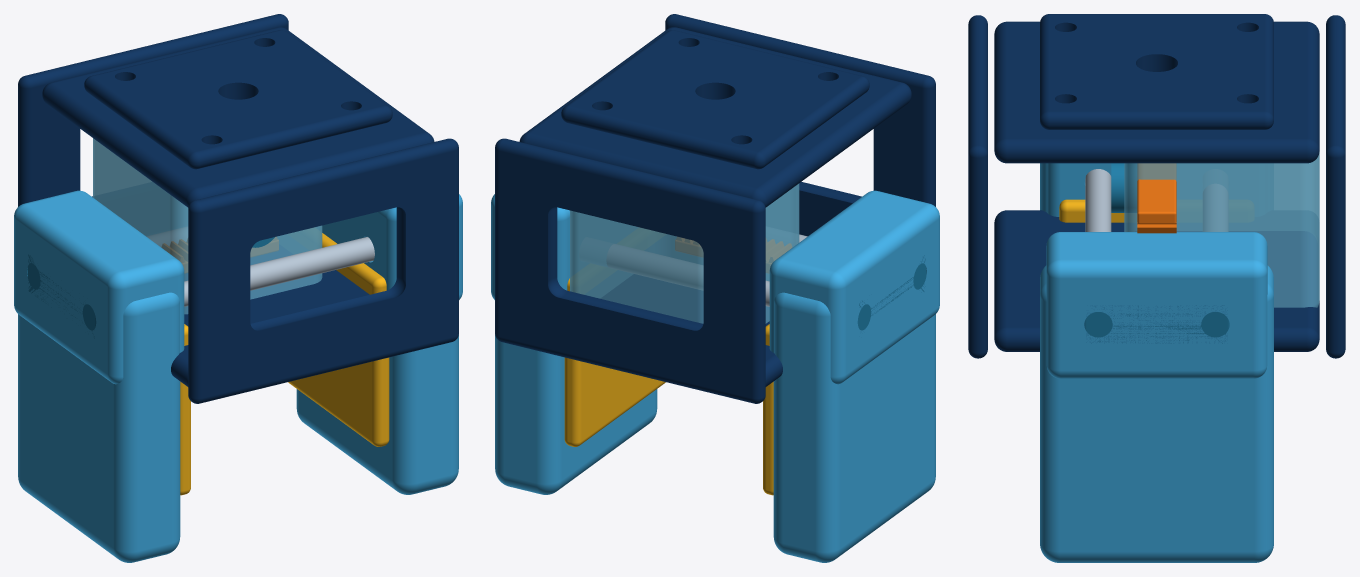
The model's file is G01_detailed_gripper_open_candidate.glb.
3 views of the same model, side by side, from view 1: azimuth 30°, elevation 25°; view 2: azimuth 150°, elevation 25°; view 3: azimuth 270°, elevation 25° (orthographic). The views are drawn at different scales.
Visible parts, largest first — view 1: L_FINGER_NEGATIVE, L_PALM_FRONT_PLATE, L_WRIST_MOUNT_PLATE, L_FINGER_POSITIVE, L_PALM_TOP_BRIDGE, L_PALM_REAR_PLATE, L_ACTUATOR_VENDOR_CANDIDATE, L_PAD_POSITIVE, L_PALM_BOTTOM_BRIDGE, L_GUIDE_ROD_FRONT, L_PAD_NEGATIVE, L_STOP_NEGATIVE (+1 smaller); view 2: L_FINGER_NEGATIVE, L_PALM_REAR_PLATE, L_WRIST_MOUNT_PLATE, L_PALM_TOP_BRIDGE, L_FINGER_POSITIVE, L_ACTUATOR_VENDOR_CANDIDATE, L_PALM_FRONT_PLATE, L_PAD_POSITIVE, L_PALM_BOTTOM_BRIDGE, L_GUIDE_ROD_REAR, L_PAD_NEGATIVE, L_RACK_NEGATIVE (+1 smaller); view 3: L_FINGER_POSITIVE, L_WRIST_MOUNT_PLATE, L_PALM_TOP_BRIDGE, L_ACTUATOR_VENDOR_CANDIDATE, L_PALM_BOTTOM_BRIDGE, L_PALM_FRONT_PLATE, L_PALM_REAR_PLATE, L_RACK_POSITIVE, L_STOP_POSITIVE, L_FINGER_NEGATIVE, L_GUIDE_ROD_FRONT, L_MANUAL_RELEASE_HUB (+2 smaller).
Boxes of the visible parts, x1,y1,x2,y2 form: L_FINGER_NEGATIVE: (14, 190, 184, 562); L_PALM_FRONT_PLATE: (188, 138, 458, 403); L_WRIST_MOUNT_PLATE: (84, 30, 392, 169); L_FINGER_POSITIVE: (296, 194, 462, 494); L_PALM_TOP_BRIDGE: (42, 27, 434, 207); L_PALM_REAR_PLATE: (18, 14, 288, 206); L_ACTUATOR_VENDOR_CANDIDATE: (93, 138, 322, 314); L_PAD_POSITIVE: (288, 233, 389, 446); L_PALM_BOTTOM_BRIDGE: (171, 244, 369, 386); L_GUIDE_ROD_FRONT: (184, 237, 374, 306); L_PAD_NEGATIVE: (180, 324, 190, 495); L_STOP_NEGATIVE: (27, 254, 96, 338); L_FINGER_NEGATIVE: (769, 190, 939, 562); L_PALM_REAR_PLATE: (495, 138, 765, 403); L_WRIST_MOUNT_PLATE: (561, 30, 869, 169); L_PALM_TOP_BRIDGE: (519, 27, 911, 207); L_FINGER_POSITIVE: (491, 194, 657, 494); L_ACTUATOR_VENDOR_CANDIDATE: (570, 183, 799, 323); L_PALM_FRONT_PLATE: (665, 14, 935, 236); L_PAD_POSITIVE: (564, 278, 665, 446); L_PALM_BOTTOM_BRIDGE: (601, 274, 782, 386); L_GUIDE_ROD_REAR: (606, 244, 769, 306); L_PAD_NEGATIVE: (763, 324, 773, 495); L_RACK_NEGATIVE: (675, 237, 791, 273); L_FINGER_POSITIVE: (1040, 232, 1273, 562); L_WRIST_MOUNT_PLATE: (1040, 14, 1273, 129); L_PALM_TOP_BRIDGE: (994, 21, 1319, 163); L_ACTUATOR_VENDOR_CANDIDATE: (1124, 152, 1319, 307); L_PALM_BOTTOM_BRIDGE: (994, 210, 1319, 351); L_PALM_FRONT_PLATE: (968, 15, 987, 358); L_PALM_REAR_PLATE: (1326, 15, 1345, 358); L_RACK_POSITIVE: (1137, 163, 1176, 233); L_STOP_POSITIVE: (1084, 305, 1229, 343); L_FINGER_NEGATIVE: (1040, 163, 1111, 216); L_GUIDE_ROD_FRONT: (1085, 169, 1111, 231); L_MANUAL_RELEASE_HUB: (1111, 163, 1136, 212).
Bounding box in the file's own units: 66 × 71 × 58.
